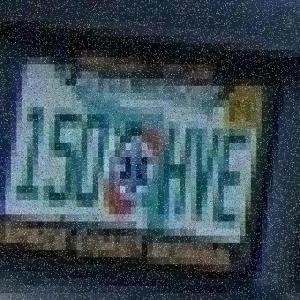Plate: (5, 42, 272, 280)
